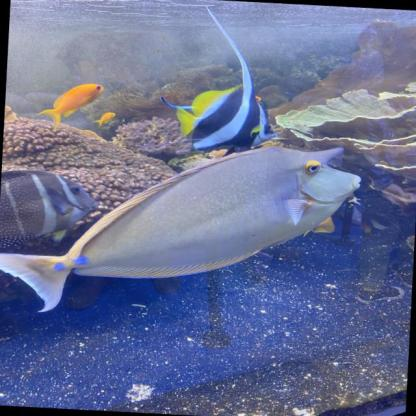fish: (0, 129, 363, 330), (0, 168, 99, 254), (174, 81, 282, 154), (36, 81, 104, 132), (94, 112, 115, 127)
